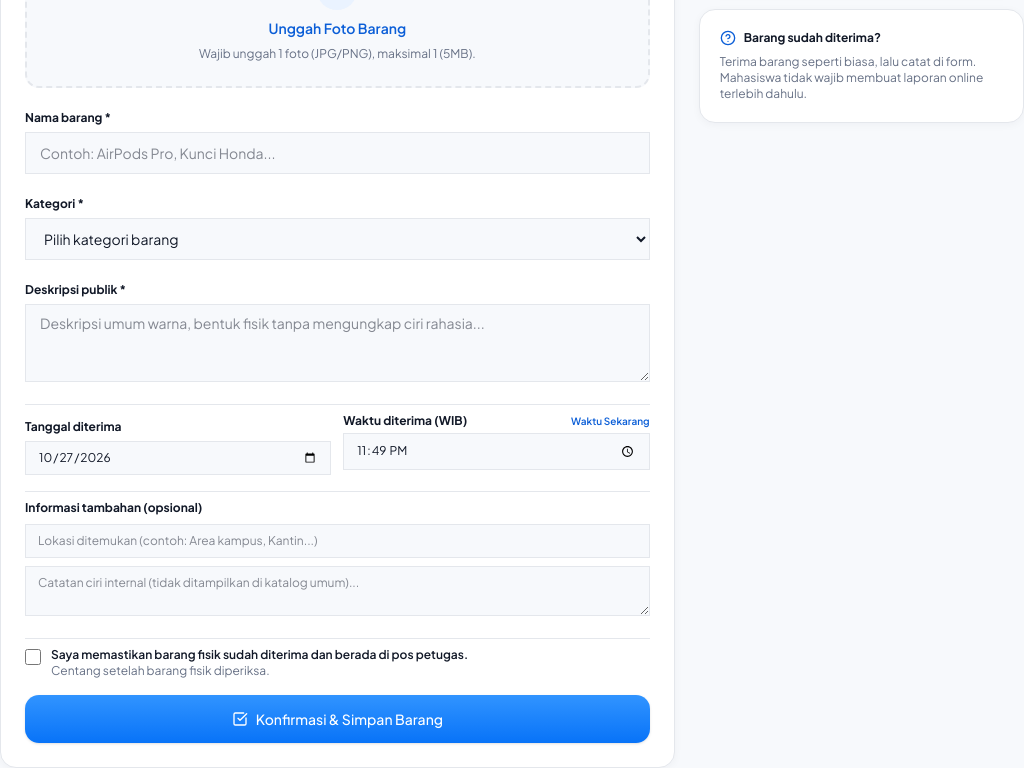
Test: Step 1 (F/B.3) � Officer Direct Item Registration › validates mandatory photo and required fields before submitting
(page scrolled)
What coordinates should you click on to do the following:
click the button "Konfirmasi & Simpan Barang"
I would click on:
 (337, 719)
Its box is [25,695,650,743].
(page scrolled)
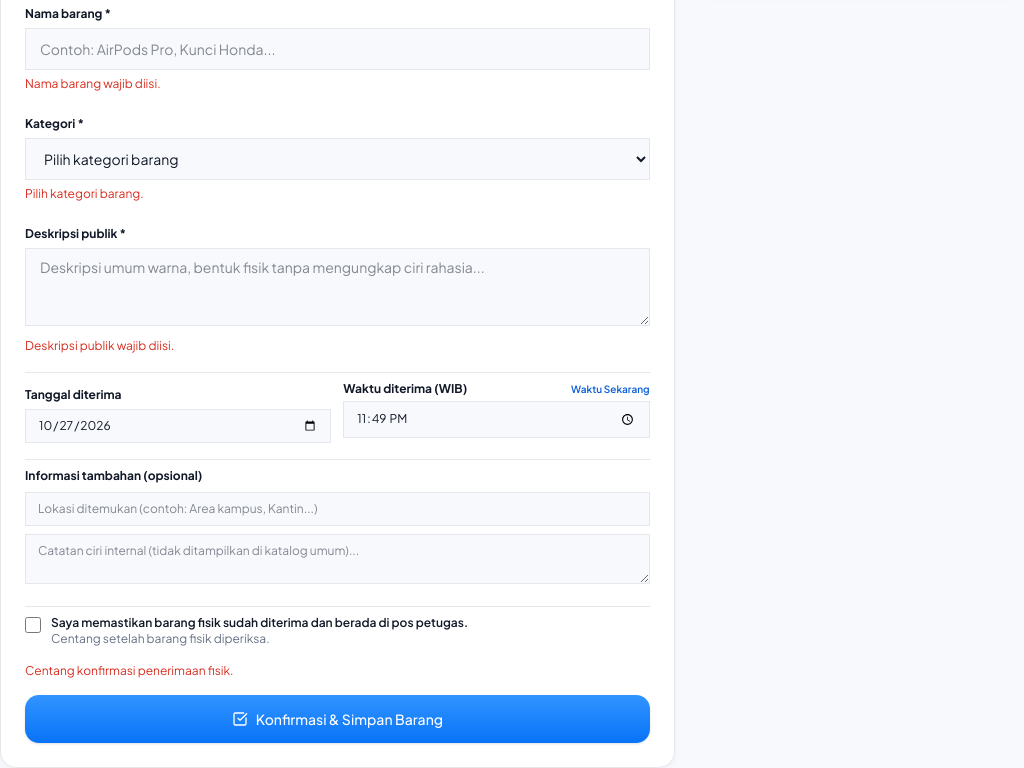
Check: the text "Nama barang wajib diisi." is shown, box [25,76,161,91]
Check: the text "Pilih kategori barang." is shown, box [25,186,144,201]
Check: the text "Deskripsi publik wajib diisi." is shown, box [25,338,174,353]
